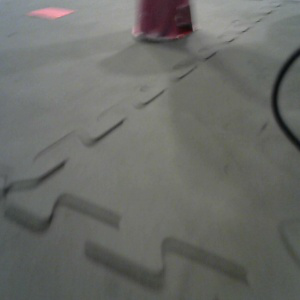middle: (129, 1, 197, 44)
